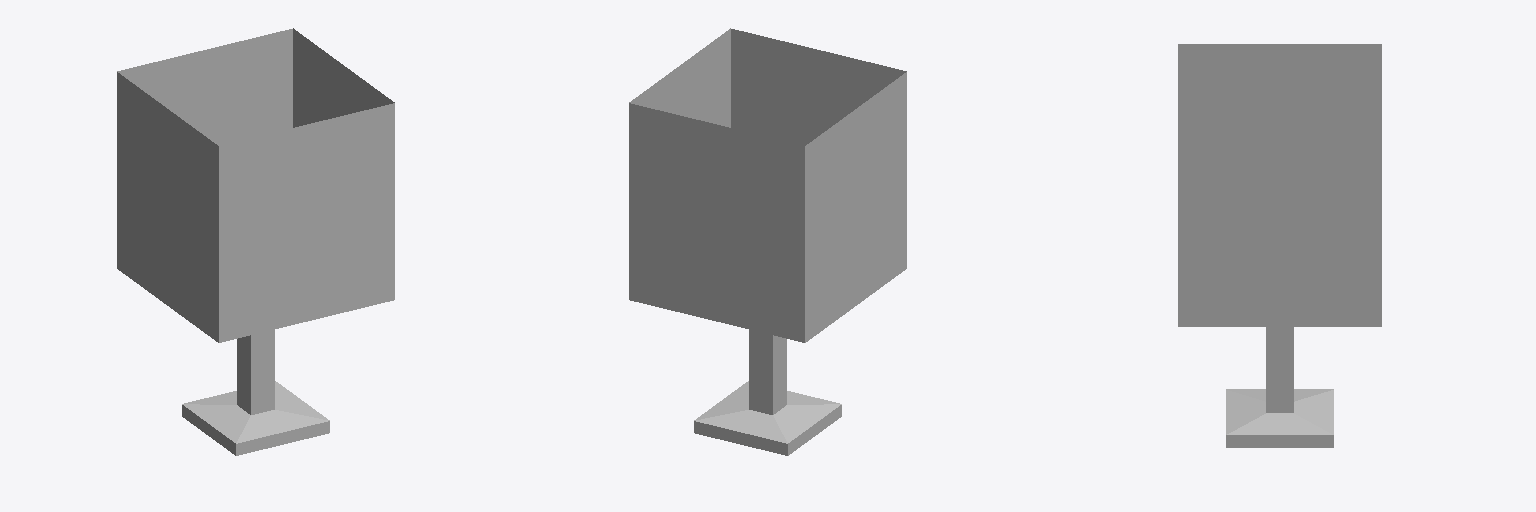
Rendered from room_lampe_chevet.obj.
The picture shows the model from 3 angles: view 1: azimuth 30°, elevation 25°; view 2: azimuth 150°, elevation 25°; view 3: azimuth 270°, elevation 25°; orthographic projection.
Visible parts, largest first — view 1: Plane.004; view 2: Plane.004; view 3: Plane.004.
Part boxes in pixels (bbox=[...]): Plane.004: bbox=[117, 28, 394, 455]; Plane.004: bbox=[629, 28, 906, 455]; Plane.004: bbox=[1178, 44, 1381, 447].
Bounding box in the file's own units: 1.18 × 2.15 × 1.18.